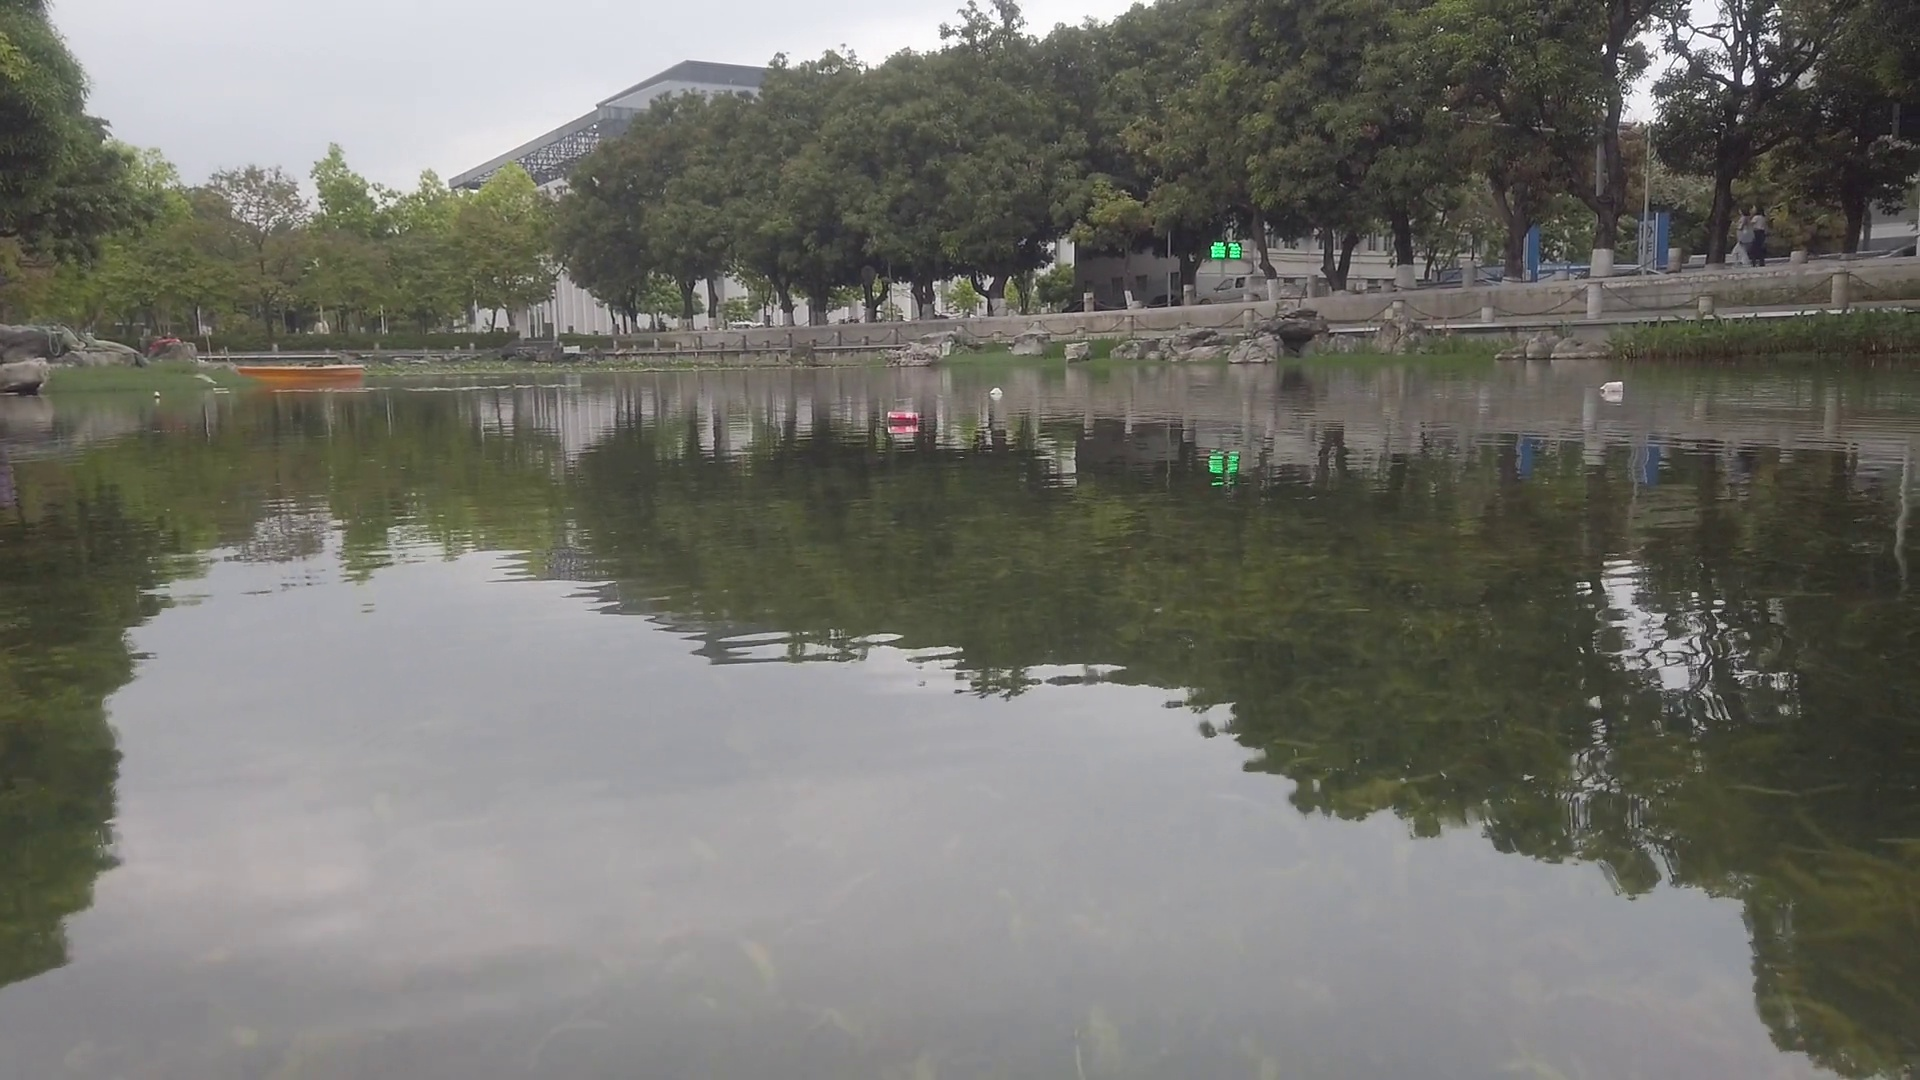bottle: (884, 411, 924, 425), (152, 389, 164, 398)
carton: (1604, 382, 1625, 392), (990, 386, 1002, 397)
